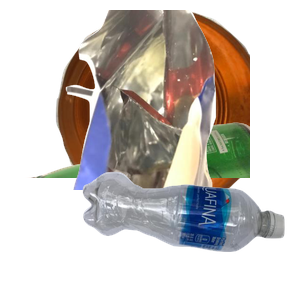glass: (23, 120, 263, 300)
metal: (53, 10, 293, 190)
plastic: (80, 169, 300, 300)
trash: (63, 10, 300, 190)
